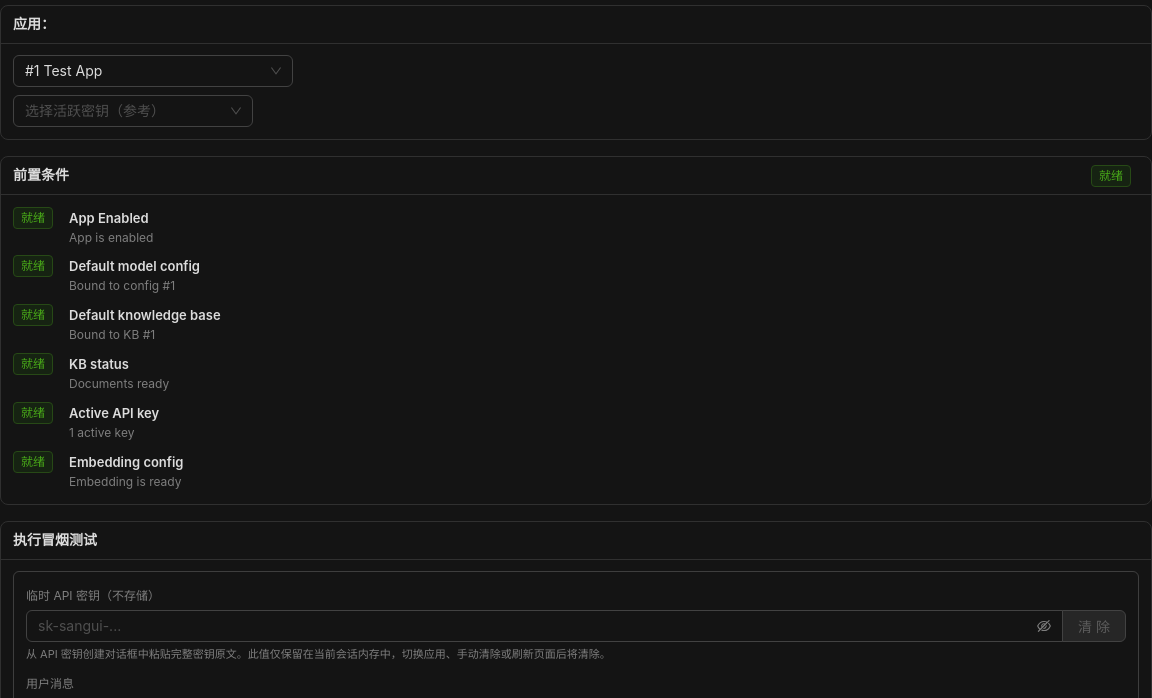
Scenario: SmokeTestPage › READY readiness with pasted key › enables Run All button when readiness is READY and key is provided
The width and height of the screenshot is (1152, 698).
Expected: the text "前置条件" is shown, [13,166,69,183]
Type "sk-sangui-test-key-12345" into the password field with placeholder "sk-sangui-..." at x=536, y=626, box [38,615,1033,637]
(page scrolled)
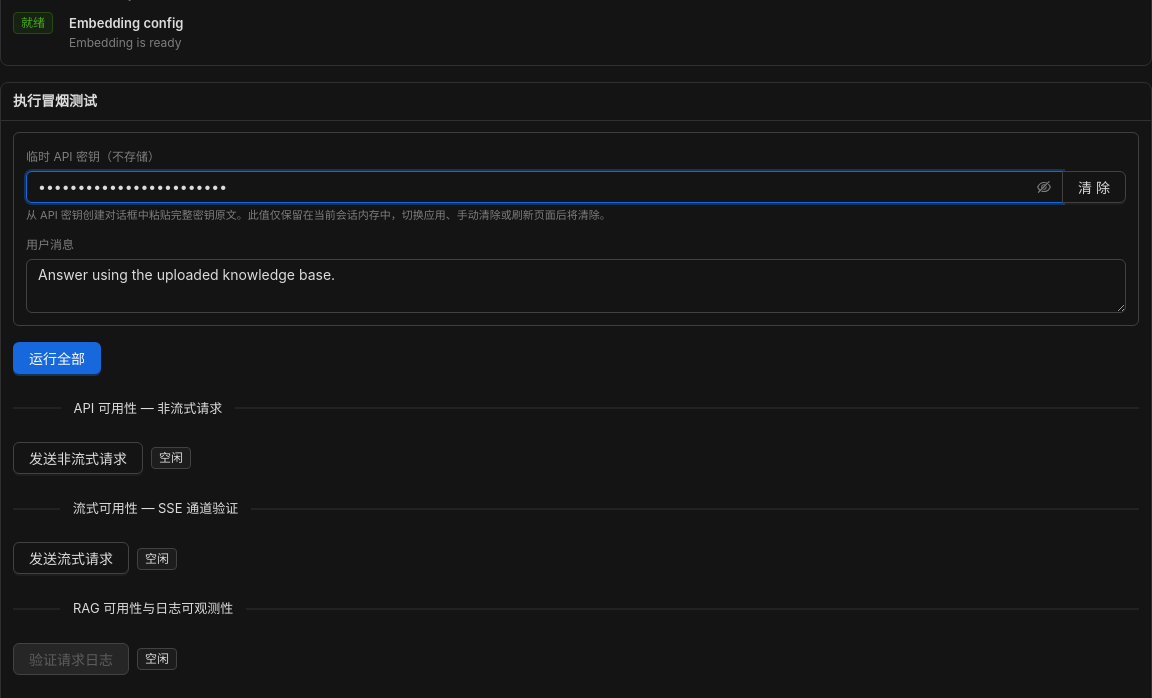
Expected: the button "运行全部" is enabled, [13,342,101,374]
